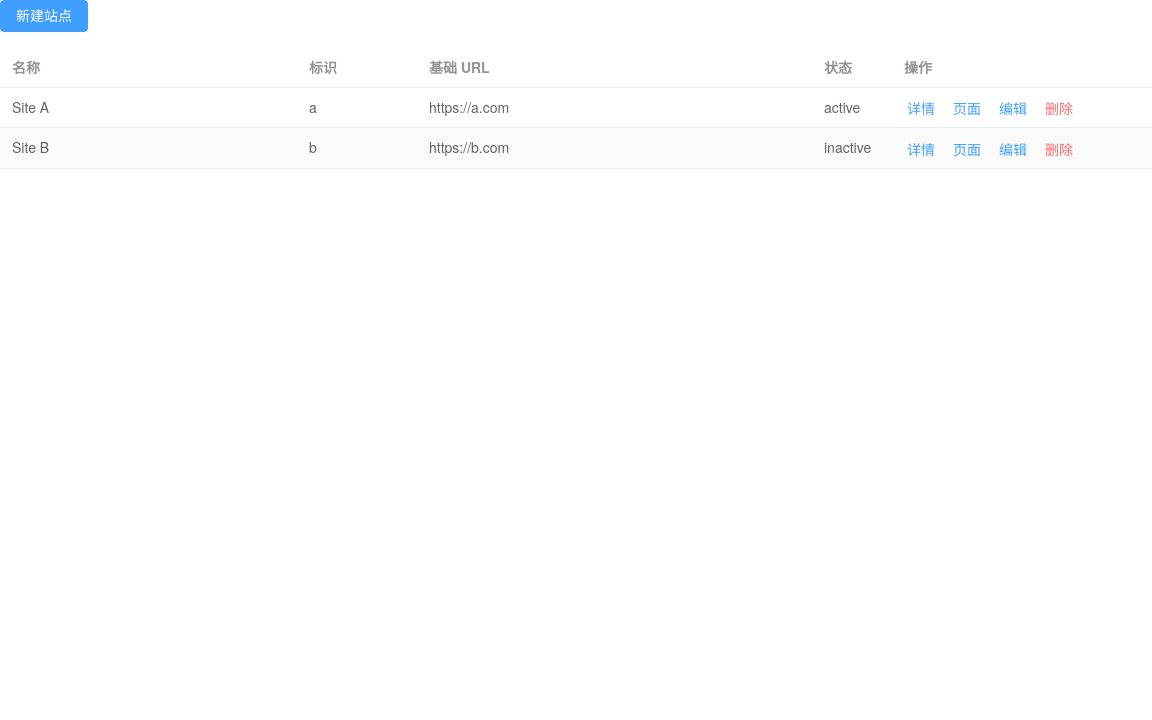
SiteList.vue interactions › opens create dialog on button click
The width and height of the screenshot is (1152, 720).
Click the button "新建站点". click: (44, 16)
box: [0,0,88,32]
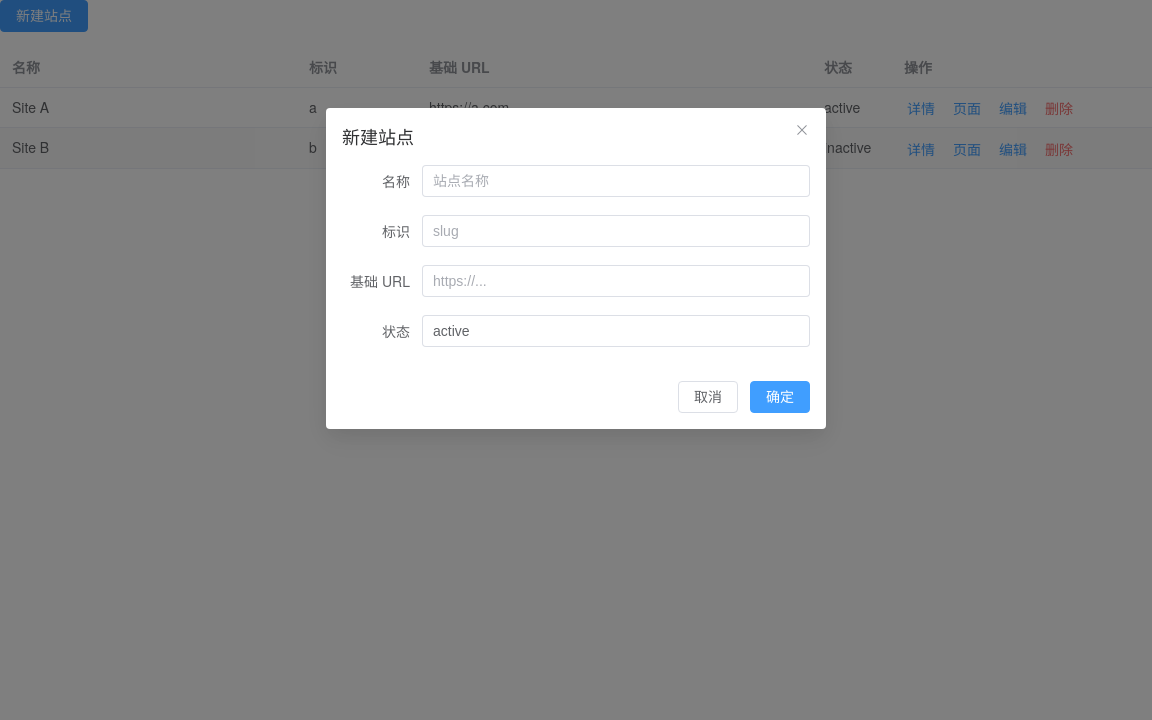
Check: the element showing "新建站点 名称 标识 基础 URL 状态 取消 确定" is shown, box [326,108,826,429]
